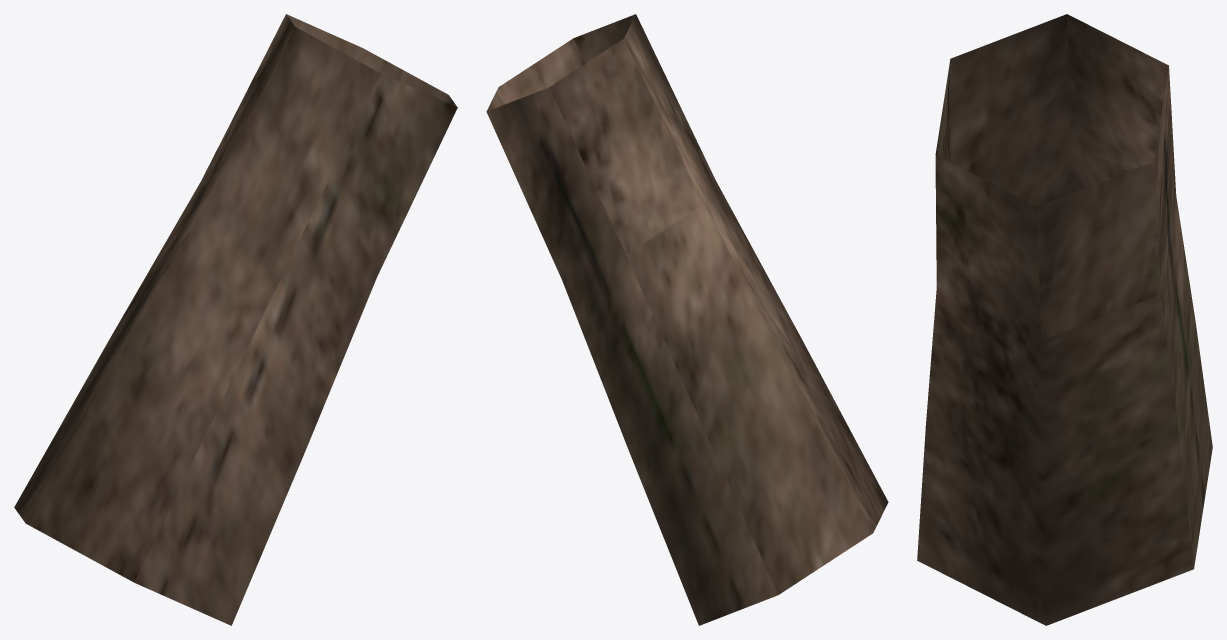
File: leg_right.gltf
3 views of the same model, side by side, from view 1: azimuth 30°, elevation 25°; view 2: azimuth 150°, elevation 25°; view 3: azimuth 270°, elevation 25° (orthographic). The views are drawn at different scales.
Parts seen in each view (by area): view 1: doll_Hanging Doll_0.006; view 2: doll_Hanging Doll_0.006; view 3: doll_Hanging Doll_0.006.
Boxes of the visible parts, x1,y1,x2,y2 form: doll_Hanging Doll_0.006: (14, 14, 457, 625); doll_Hanging Doll_0.006: (486, 14, 888, 625); doll_Hanging Doll_0.006: (917, 14, 1212, 625).
Size of the model in its own units: 65.21 by 85.89 by 34.84.
Materials: 1 (1 with a texture image).
